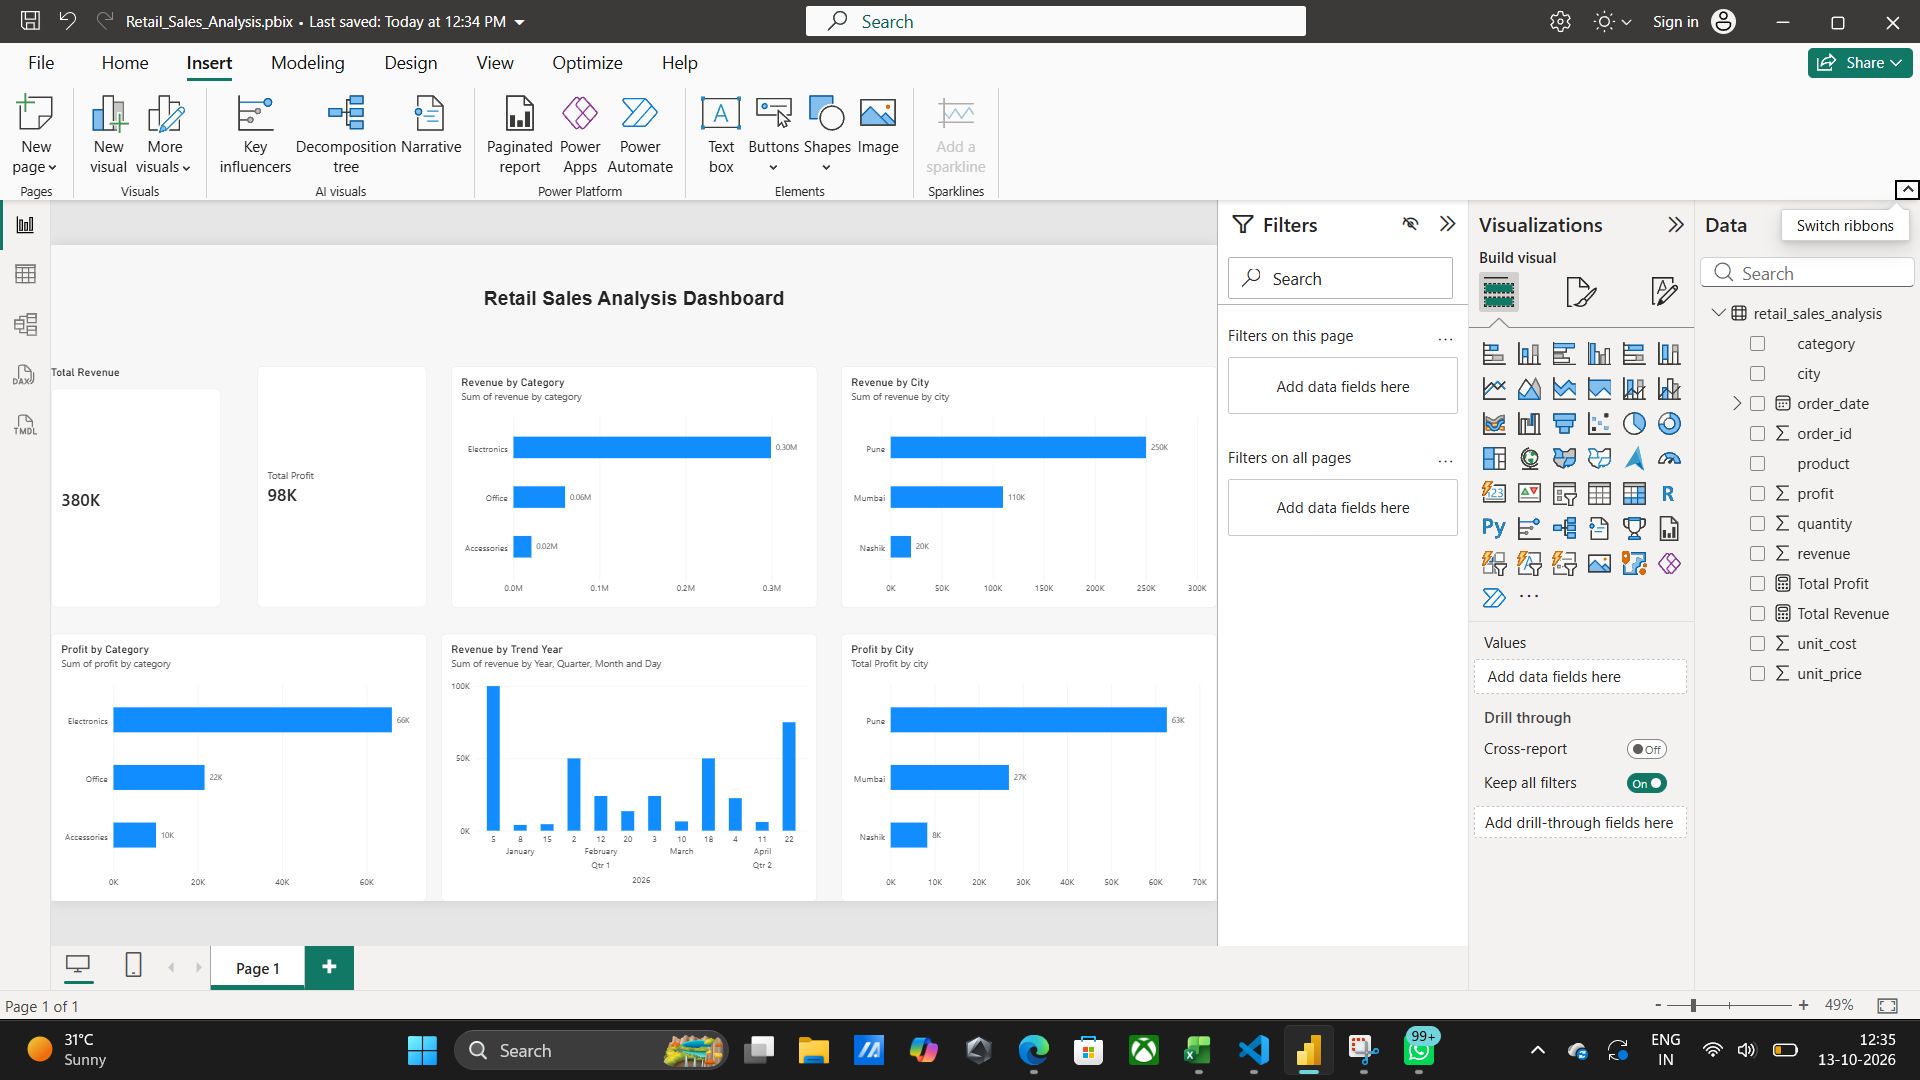

This screenshot's page, from the dashboard's own definition file:
{"tool":"powerbi","page":{"name":"Page 1","canvas":[1920,1080],"ordinal":0},"visuals":[{"type":"cardVisual","title":"Total Revenue","fields":{"Data":["Sum(retail_sales_analysis.revenue)"]},"box":[0,199.7,279.9,397.3],"z":0},{"type":"cardVisual","fields":{"Data":["retail_sales_analysis.Total Profit"]},"box":[339.6,199.7,279.9,397.3],"z":1},{"type":"clusteredBarChart","title":"Revenue by Category","fields":{"Category":["retail_sales_analysis.category"],"Y":["Sum(retail_sales_analysis.revenue)"]},"box":[658.7,199.7,603.1,397.3],"z":2},{"type":"clusteredBarChart","title":"Revenue by City","fields":{"Category":["retail_sales_analysis.city"],"Y":["Sum(retail_sales_analysis.revenue)"]},"box":[1300.9,199.7,619.6,397.3],"z":3},{"type":"clusteredBarChart","title":"Profit by Category","fields":{"Category":["retail_sales_analysis.category"],"Y":["Sum(retail_sales_analysis.profit)"]},"box":[0,640.1,619.6,440.5],"z":4},{"type":"columnChart","title":"Revenue by Trend Year","fields":{"Category":["retail_sales_analysis.order_date.Variation.Date Hierarchy.Year","retail_sales_analysis.order_date.Variation.Date Hierarchy.Quarter","retail_sales_analysis.order_date.Variation.Date Hierarchy.Month","retail_sales_analysis.order_date.Variation.Date Hierarchy.Day"],"Y":["Sum(retail_sales_analysis.revenue)"]},"box":[642.2,640.1,619.6,440.5],"z":5},{"type":"barChart","title":"Profit by City","fields":{"Category":["retail_sales_analysis.city"],"Y":["retail_sales_analysis.Total Profit"]},"box":[1300.9,640.1,619.6,440.5],"z":6},{"type":"textbox","box":[0,790,620,290],"z":7},{"type":"textbox","box":[648.4,804.8,574.3,61.7],"z":8},{"type":"textbox","box":[658.7,70,603.1,76.2],"z":9}]}

Visuals, with their boxes on the page's 1920x1080 design canvas (x1, y1, x2, y2). These are canvas units, not pixel positions in the 1920x1080 screenshot, which may show the page scaled, cropped or inside an application window:
"Total Revenue" cardVisual: locate(0, 200, 280, 597)
cardVisual - retail_sales_analysis.Total Profit: locate(340, 200, 620, 597)
"Revenue by Category" clusteredBarChart: locate(659, 200, 1262, 597)
"Revenue by City" clusteredBarChart: locate(1301, 200, 1920, 597)
"Profit by Category" clusteredBarChart: locate(0, 640, 620, 1081)
"Revenue by Trend Year" columnChart: locate(642, 640, 1262, 1081)
"Profit by City" barChart: locate(1301, 640, 1920, 1081)
textbox: locate(0, 790, 620, 1080)
textbox: locate(648, 805, 1223, 866)
textbox: locate(659, 70, 1262, 146)
